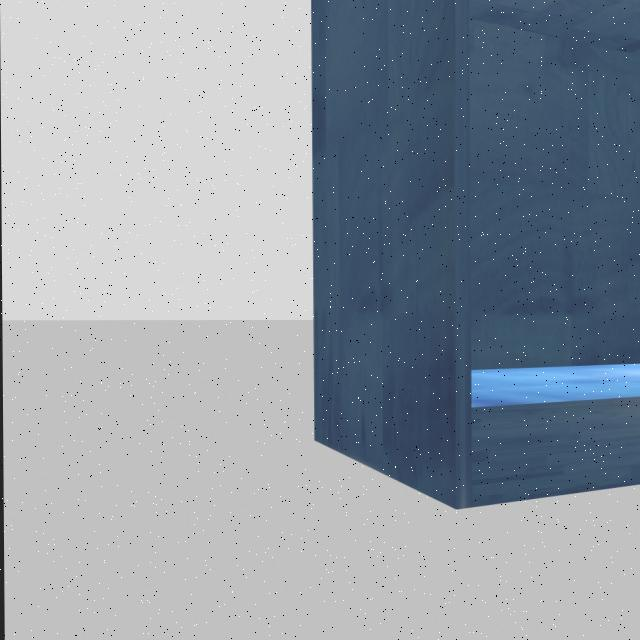shelf: (300, 0, 640, 521)
